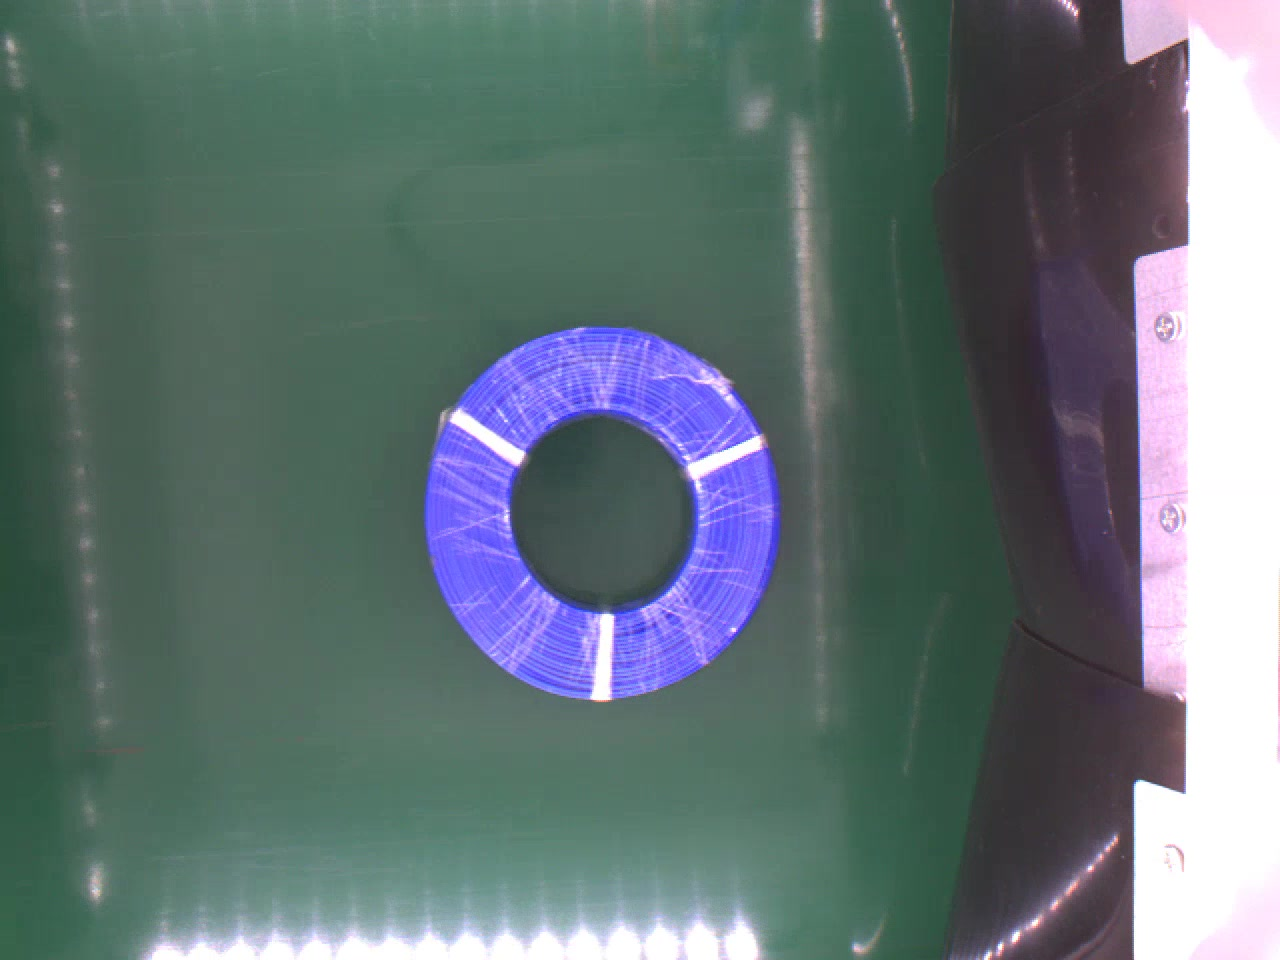blue: (422, 318, 779, 703)
